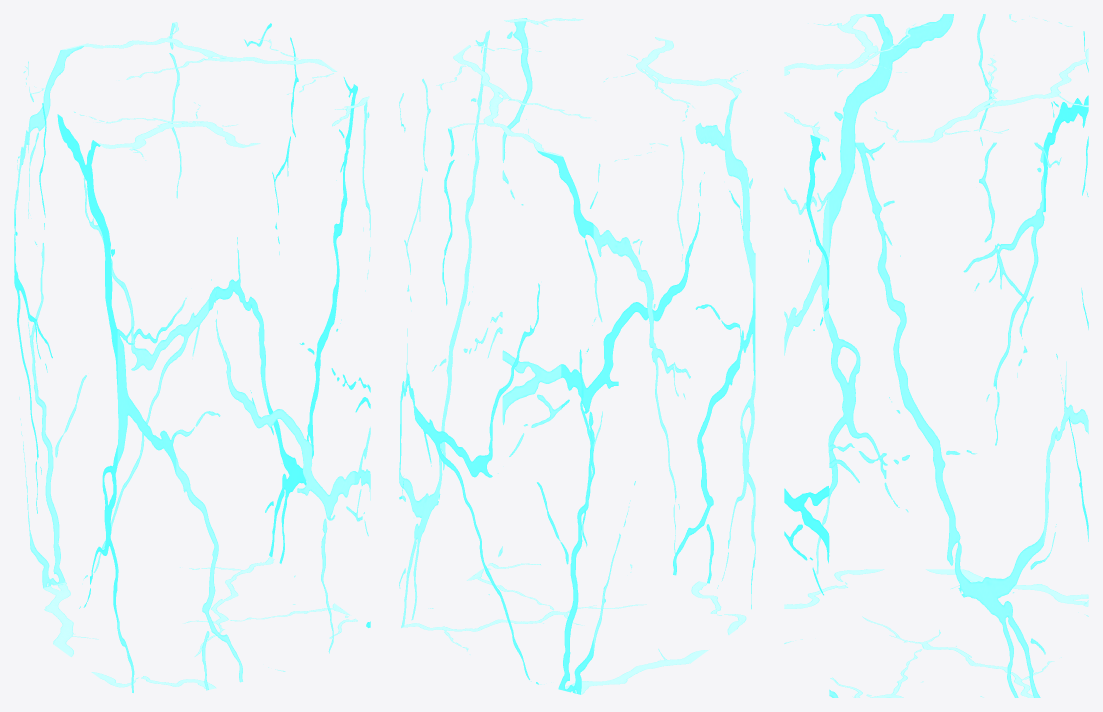
Rendered from finalBoss-lightningCubeLower.glb.
3 renders of one model, left to right at view 1: azimuth 30°, elevation 25°; view 2: azimuth 150°, elevation 25°; view 3: azimuth 270°, elevation 25°, orthographic. The views are drawn at different scales.
Parts seen in each view (by area): view 1: finalBoss-lightningCubeLower; view 2: finalBoss-lightningCubeLower; view 3: finalBoss-lightningCubeLower.
Boxes of the visible parts, x1,y1,x2,y2 form: finalBoss-lightningCubeLower: (14, 22, 370, 692); finalBoss-lightningCubeLower: (399, 18, 755, 694); finalBoss-lightningCubeLower: (784, 14, 1088, 697).
Bounding box in the file's own units: 1.3 × 2.61 × 1.3.
Materials: 1 (1 with a texture image).
